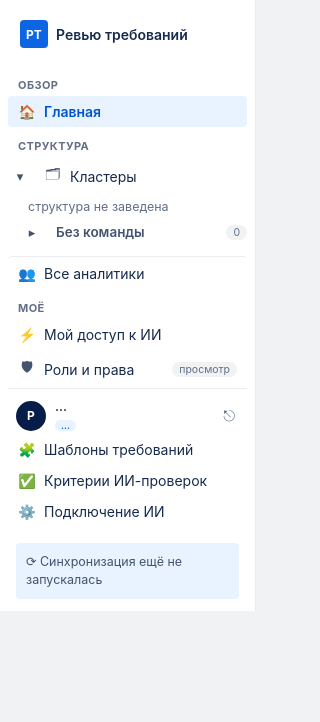
it: Sidebar › shows 'нет документов' for an analyst without documents
Click the button named "Аналитики без команды": x=32, y=232 [20,218,44,246]
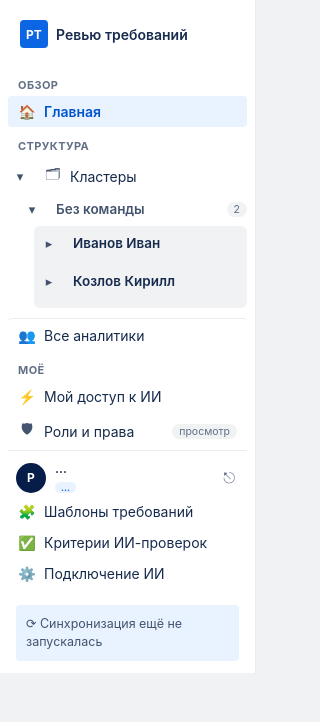
Click the button named "Документы аналитика Козлов Кирилл": x=49, y=281 [37,267,61,295]
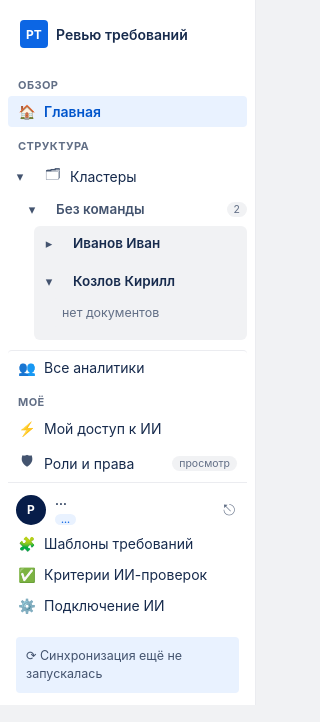
Now the text "нет документов" is shown, box [62,305,159,320]
